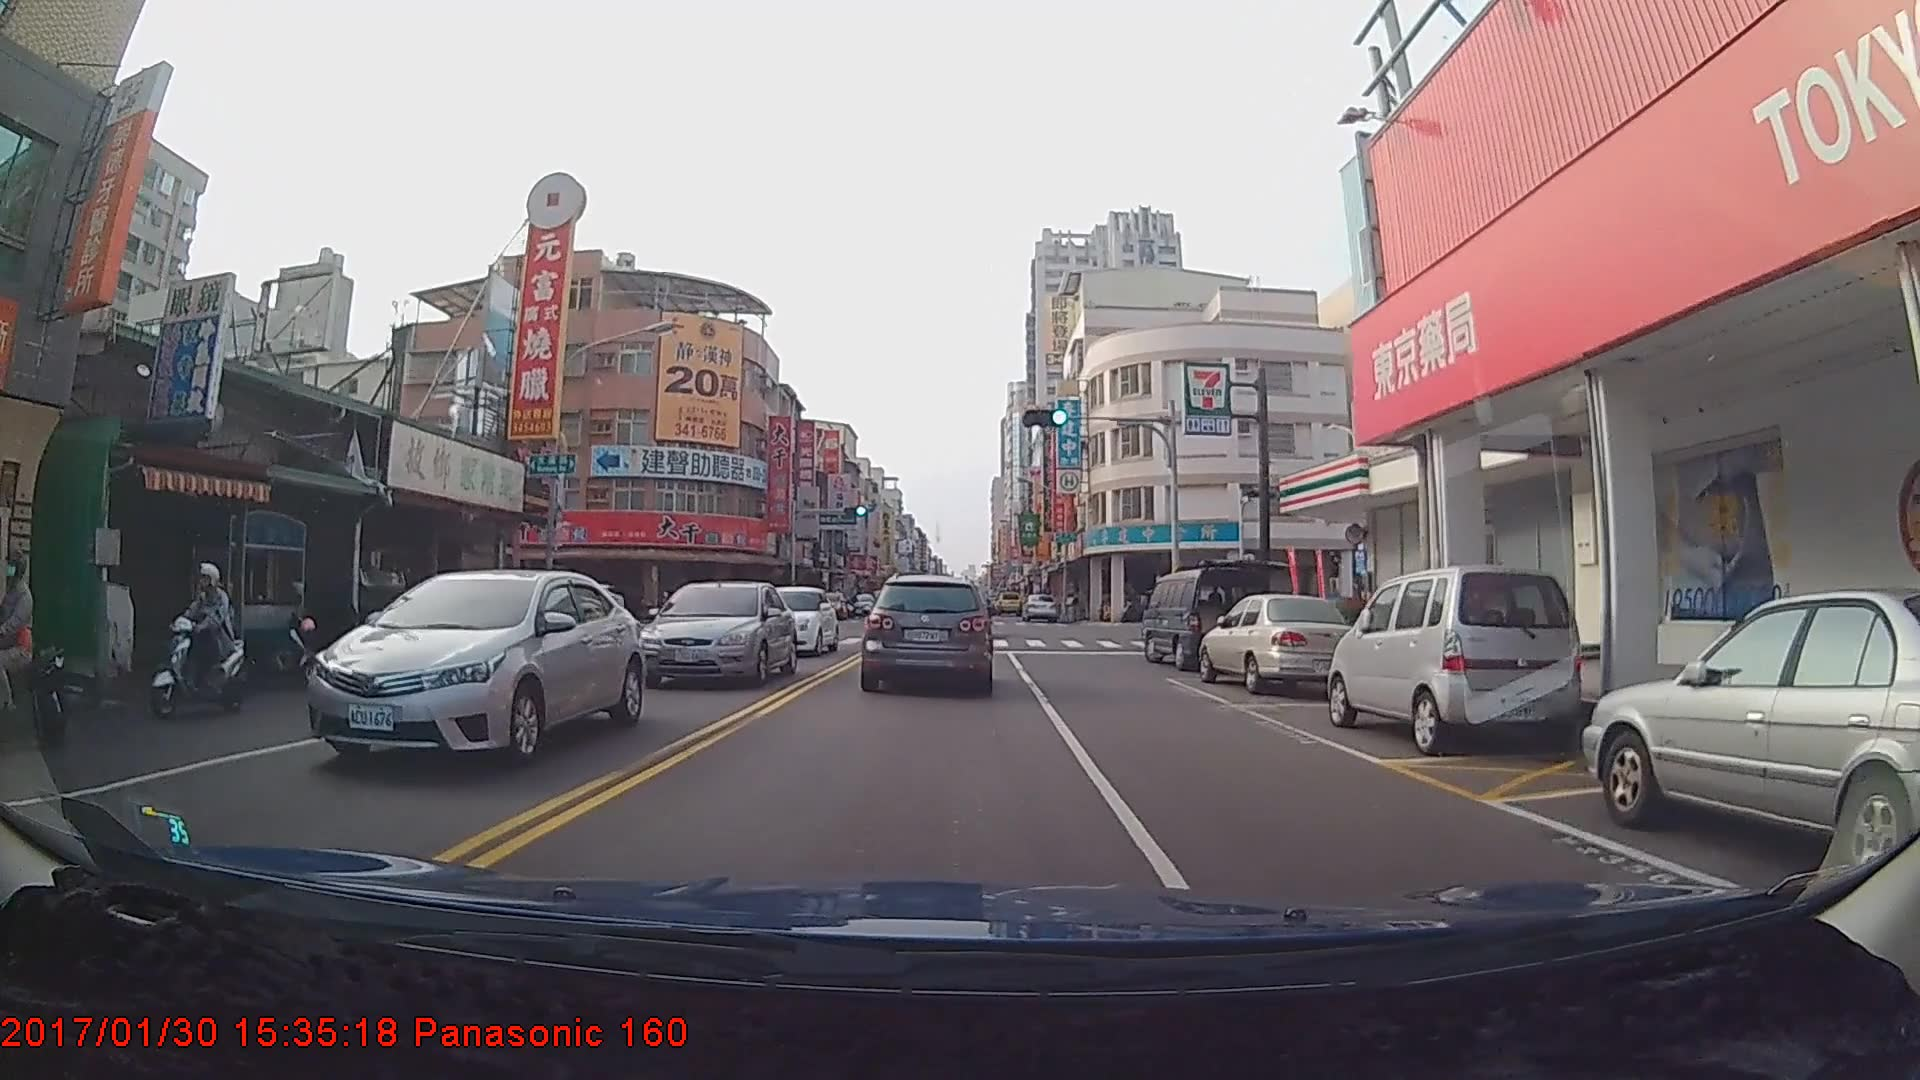rider: (143, 559, 257, 719)
vehicle: (1582, 590, 1920, 884), (300, 567, 653, 783), (1327, 563, 1576, 754), (634, 579, 798, 690), (1197, 593, 1353, 696), (865, 572, 992, 692), (1140, 568, 1272, 668), (752, 583, 840, 656), (811, 588, 845, 620), (1020, 592, 1059, 620), (995, 591, 1020, 612)
